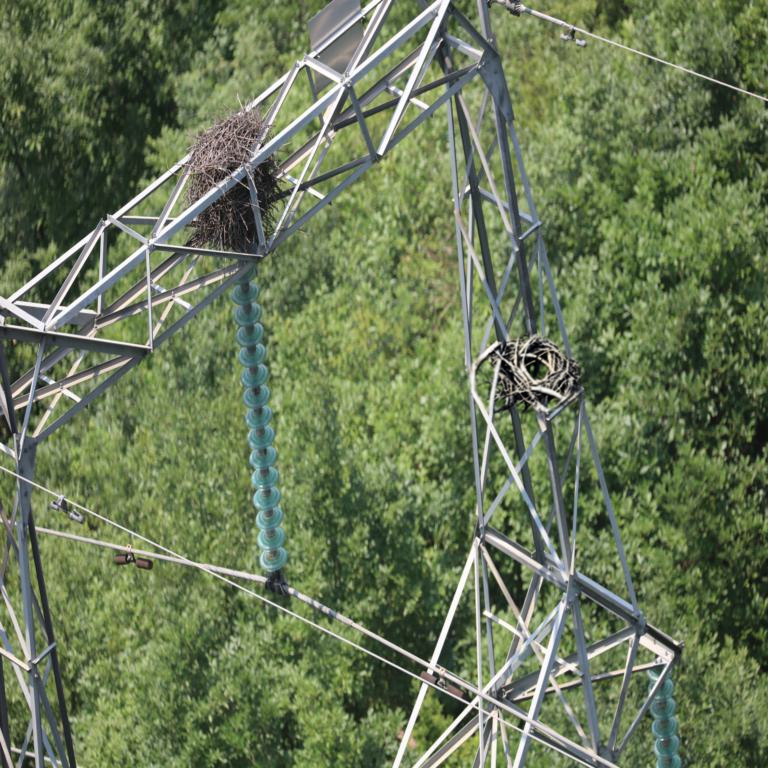nest: (188, 113, 278, 251), (489, 338, 580, 409)
